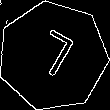L_SW: (27, 27, 79, 85)
